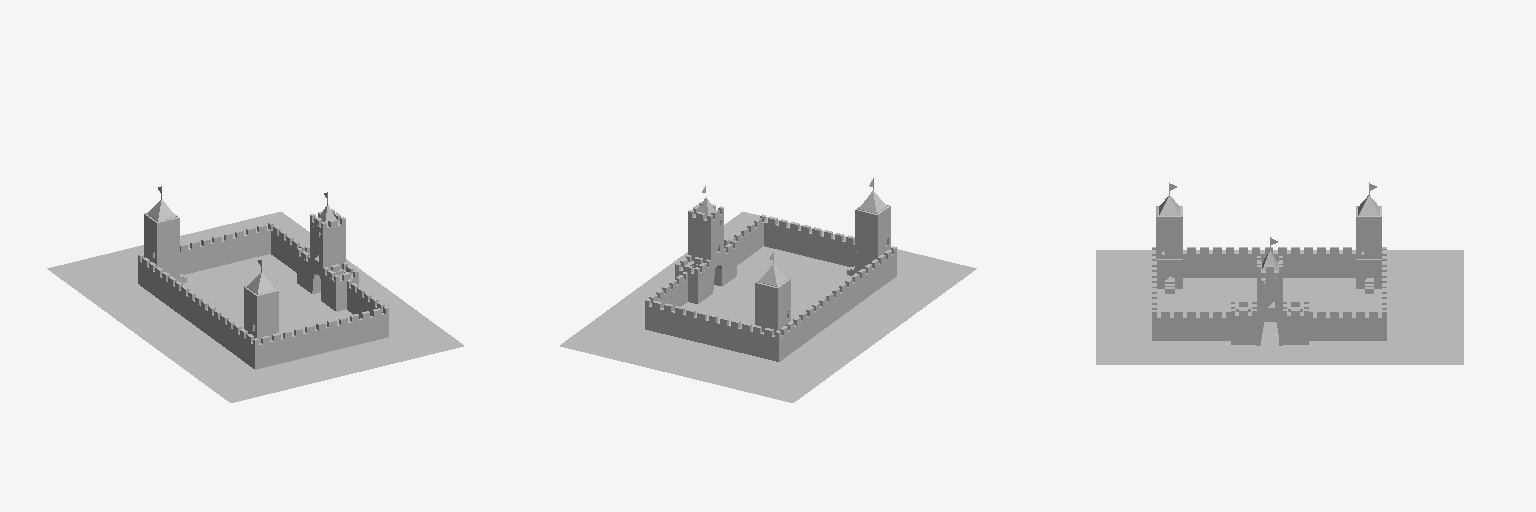
Rendered from Castle_1.obj.
The picture shows the model from 3 angles: view 1: azimuth 30°, elevation 25°; view 2: azimuth 150°, elevation 25°; view 3: azimuth 270°, elevation 25°; orthographic projection.
Visible parts, largest first — view 1: Plane.005_Plane.014, Cube.037_House_1; view 2: Plane.005_Plane.014, Cube.037_House_1; view 3: Plane.005_Plane.014, Cube.037_House_1.
Part boxes in pixels (x1,y1,x2,y2): Plane.005_Plane.014: (47,212,463,402); Cube.037_House_1: (138,186,388,369); Plane.005_Plane.014: (560,212,976,402); Cube.037_House_1: (645,178,896,361); Plane.005_Plane.014: (1096,250,1463,364); Cube.037_House_1: (1152,182,1386,345).
Size of the model in its own units: 9.05 by 3.79 by 12.31.